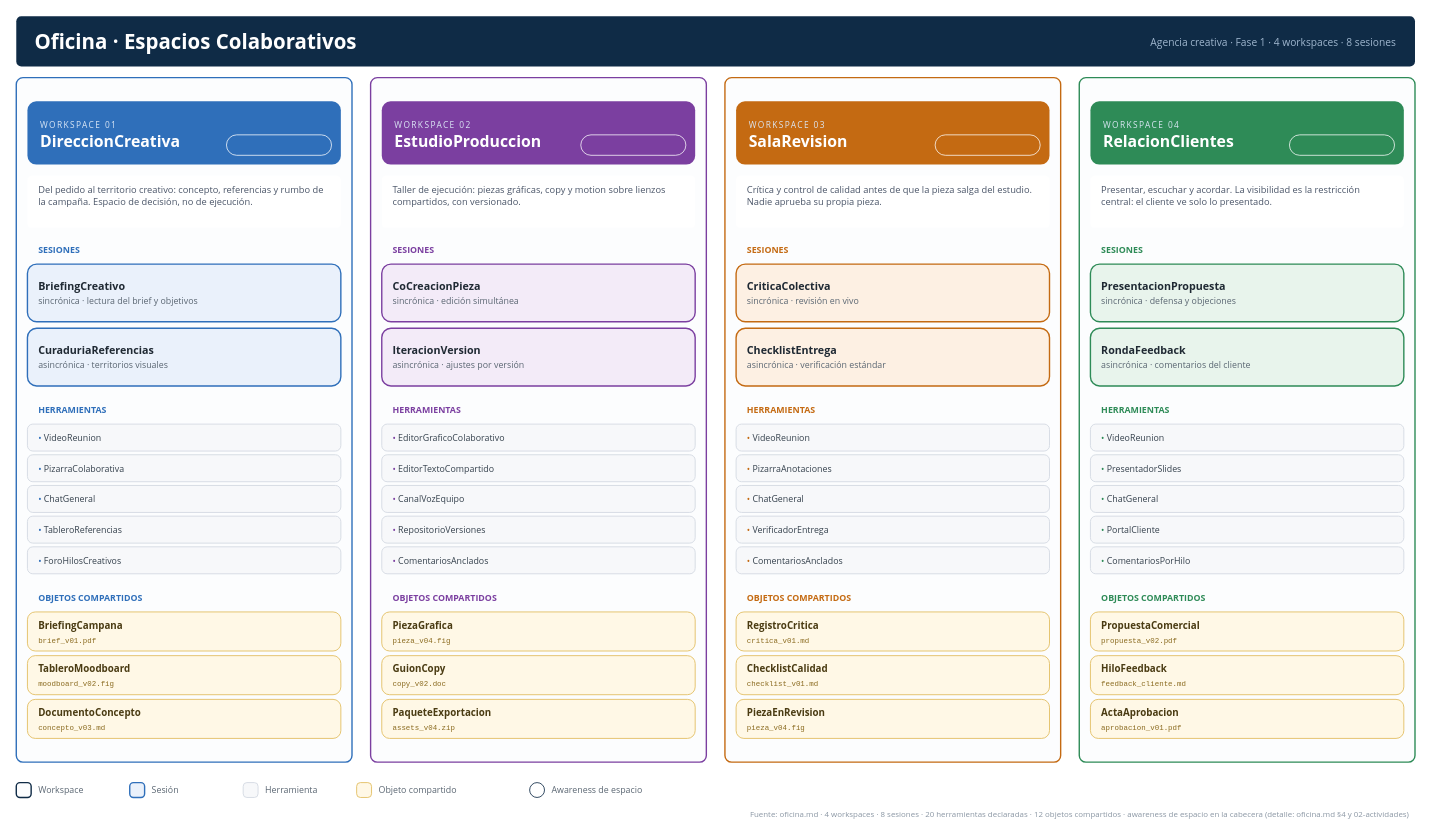
Image size: 1432x839. Some labels were removed from this diagram. The centre of each missing label's shape, as x and y in pixels:
AWARENESS · ActivityLevel: [633,144]
AWARENESS · Density: [278,144]
AWARENESS · PlaceAction: [987,144]
AWARENESS · UserLocation: [1341,144]
